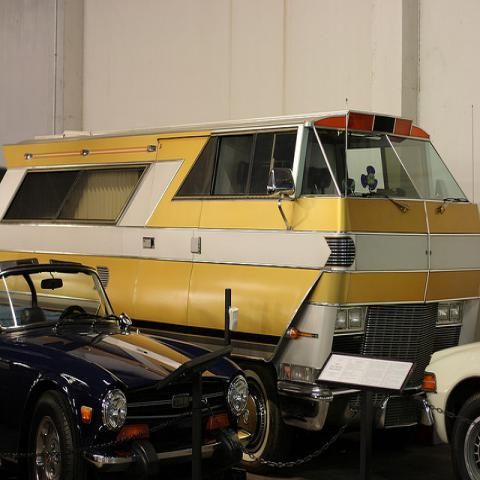bus: (1, 108, 478, 466)
car: (0, 258, 248, 476), (422, 339, 480, 479)
